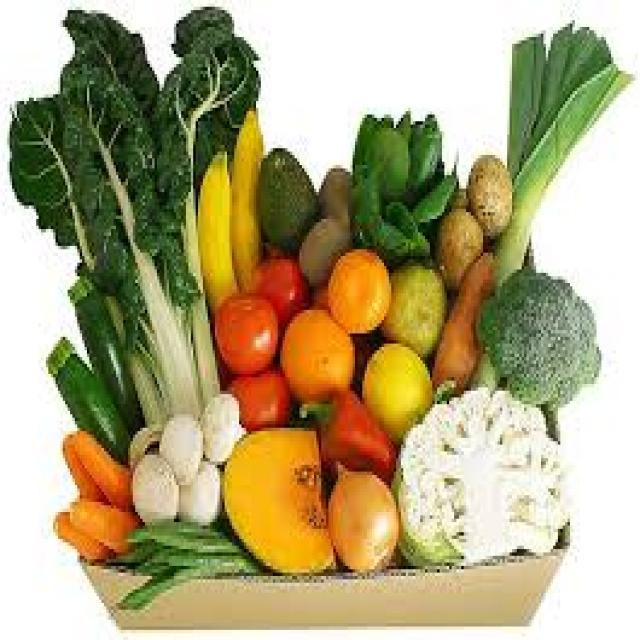organic waste: (56, 7, 220, 428), (471, 17, 630, 380), (150, 3, 258, 304), (396, 384, 572, 563), (56, 7, 166, 280), (7, 91, 116, 269), (473, 263, 599, 404), (218, 421, 334, 573), (348, 108, 456, 256), (65, 266, 140, 428), (43, 330, 128, 458), (292, 384, 396, 482), (324, 455, 396, 566), (358, 340, 432, 441), (278, 303, 352, 404), (191, 145, 234, 310), (379, 252, 447, 354), (224, 104, 260, 293), (90, 222, 142, 350), (254, 145, 316, 246), (324, 243, 386, 330), (212, 293, 276, 374), (68, 424, 130, 506), (248, 249, 306, 327), (116, 556, 198, 606), (126, 515, 242, 549), (464, 152, 509, 239), (68, 495, 138, 549), (128, 448, 179, 519), (227, 364, 287, 424), (434, 205, 480, 283), (157, 408, 203, 482), (198, 388, 244, 462), (126, 546, 256, 572), (60, 428, 104, 498), (297, 216, 345, 280), (176, 458, 220, 526), (51, 508, 111, 556), (316, 165, 348, 222), (452, 185, 464, 209)
